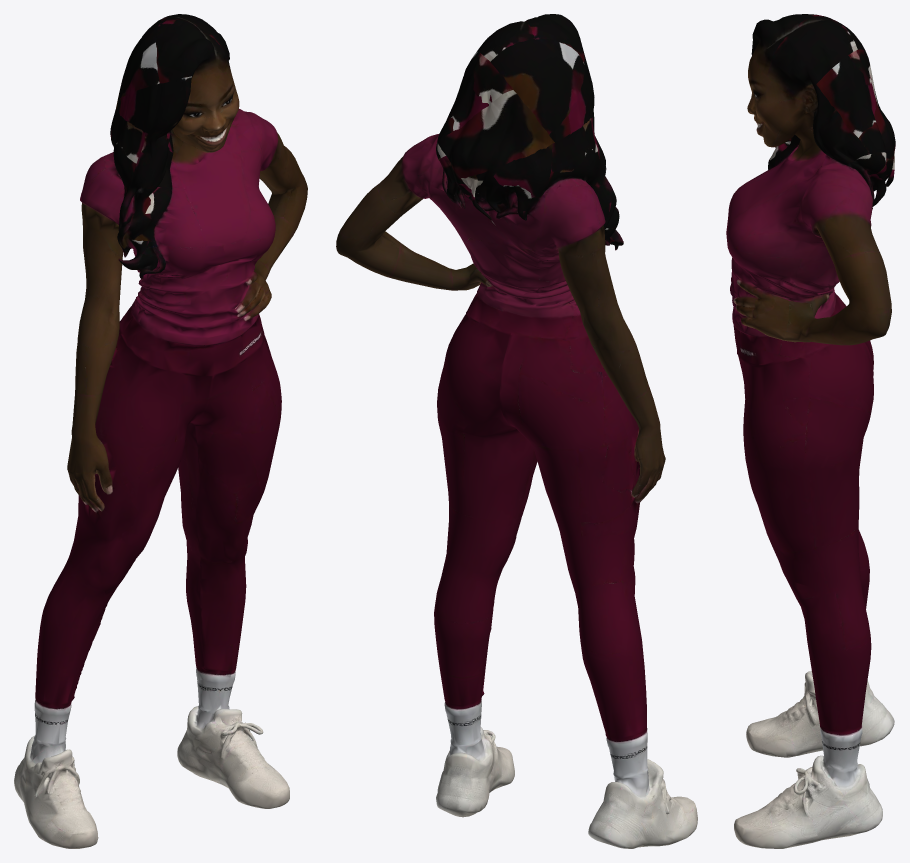
File: joggeuse-bordeaux.glb
3 renders of one model, left to right at view 1: azimuth 30°, elevation 25°; view 2: azimuth 150°, elevation 25°; view 3: azimuth 270°, elevation 25°, orthographic.
Parts seen in each view (by area): view 1: mesh_node; view 2: mesh_node; view 3: mesh_node.
Part boxes in pixels (left/top/right/bottom): mesh_node: left=14, top=14, right=307, bottom=848; mesh_node: left=336, top=14, right=697, bottom=848; mesh_node: left=726, top=14, right=895, bottom=848.
Bounding box in the file's own units: 0.786 × 1.9 × 0.3695.
1 material, 1 textured.
